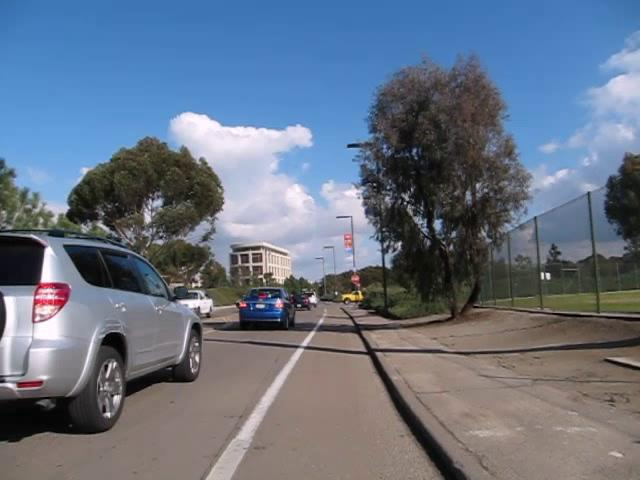stop: (350, 273, 360, 285)
